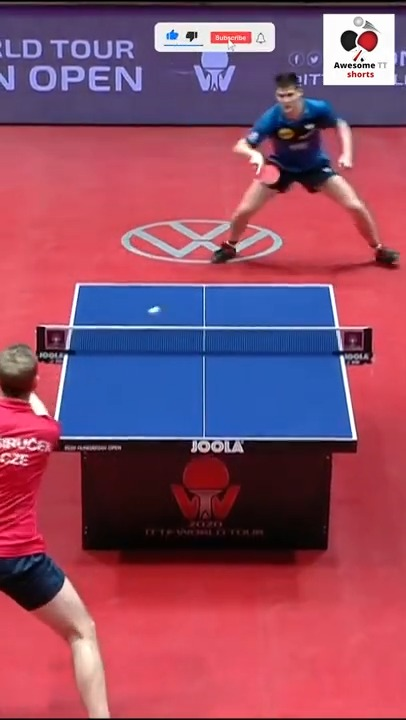Ball: (146, 304, 161, 318)
